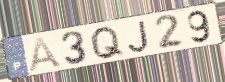2: (153, 14, 186, 52)
3: (60, 30, 89, 66)
9: (186, 9, 213, 44)
A: (28, 36, 65, 73)
J: (127, 19, 151, 53)
Q: (89, 25, 127, 61)
